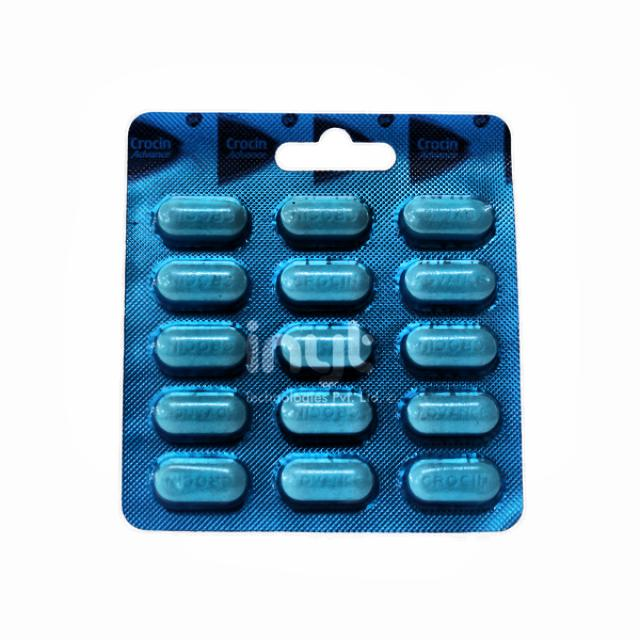Crocin: (133, 119, 510, 534)
